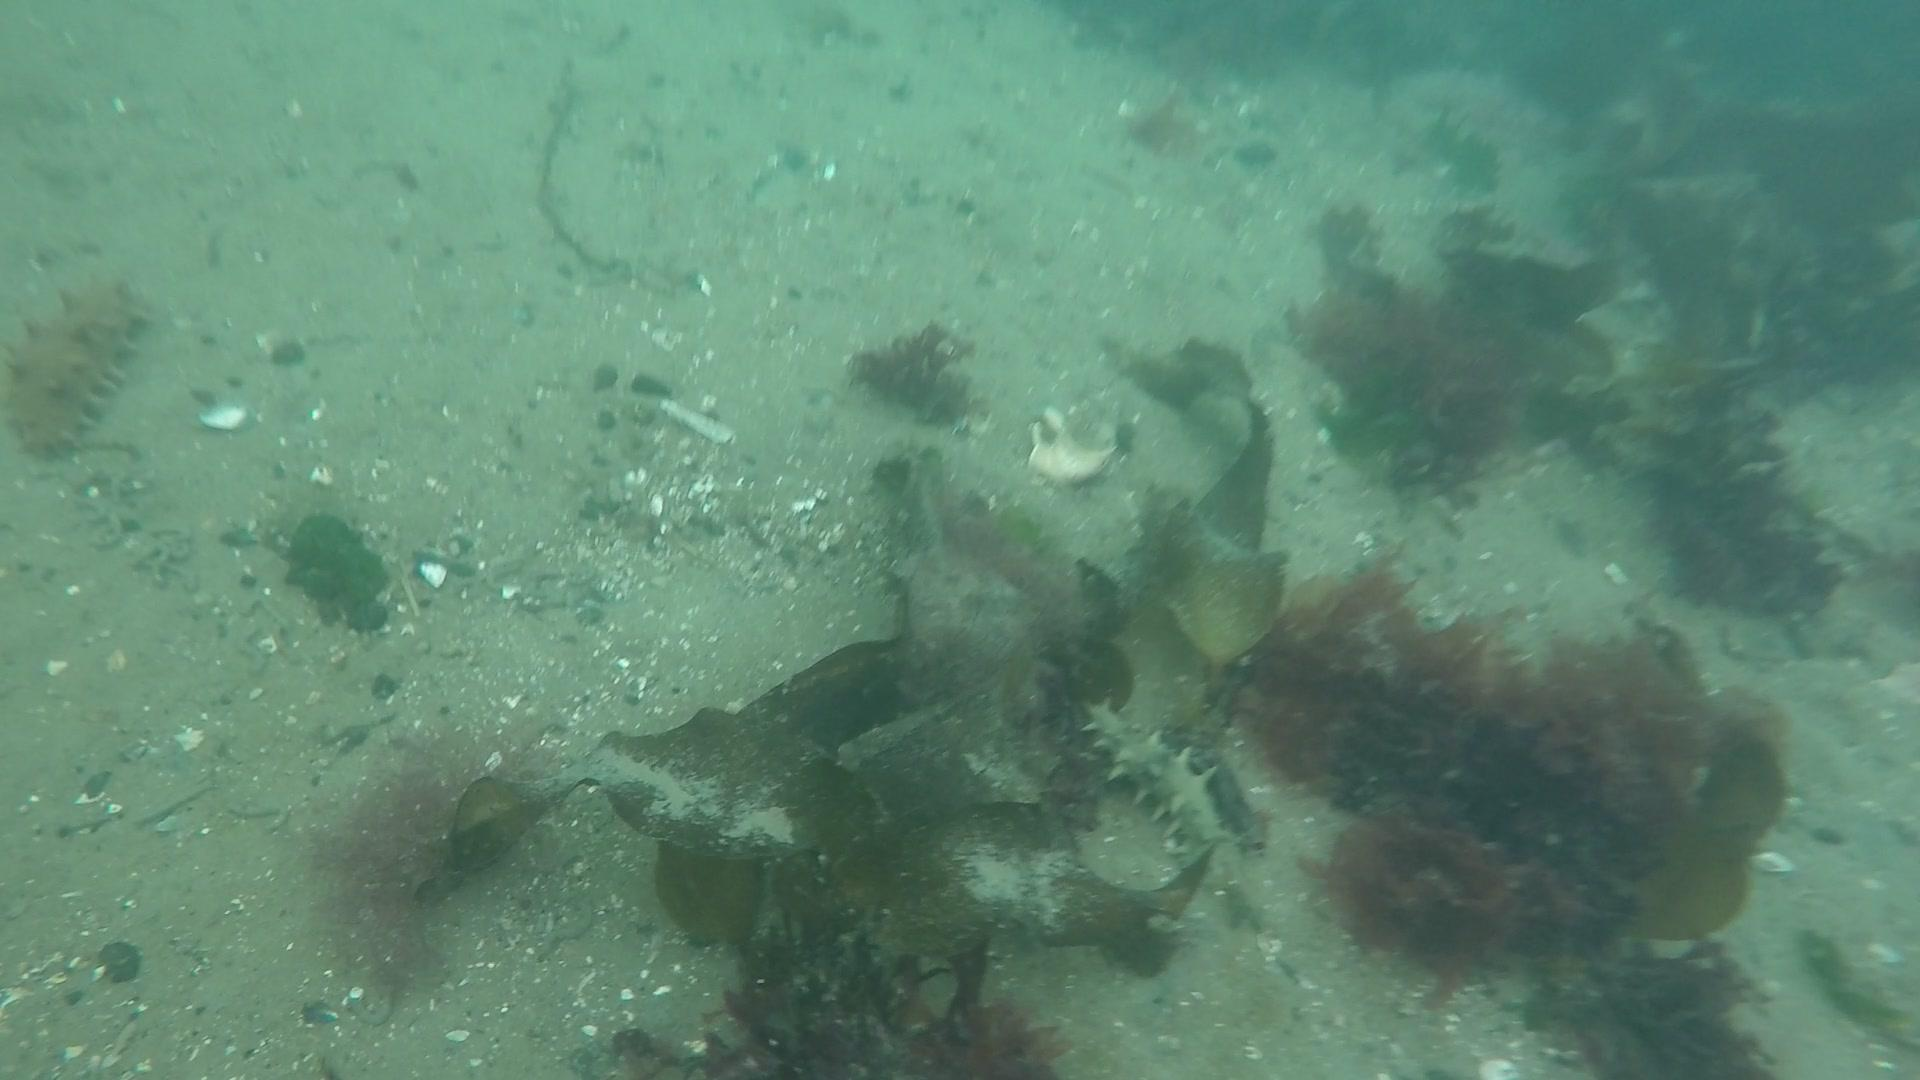holothurian: (1077, 698, 1236, 857)
